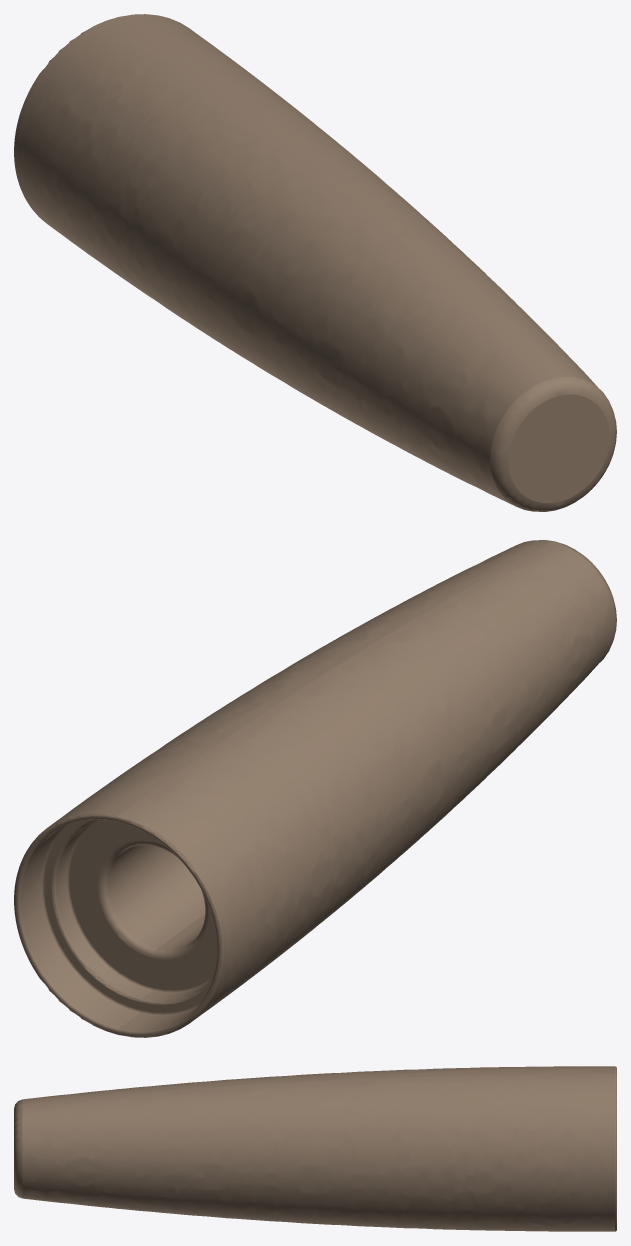
File: 281241_DECOMPRESSION CONE TOOL.fbx
The picture shows the model from 3 angles, top to bottom: view 1: azimuth 30°, elevation 25°; view 2: azimuth 150°, elevation 25°; view 3: azimuth 270°, elevation 25°; orthographic projection. The views are drawn at different scales.
Parts seen in each view (by area): view 1: meshes[0]; view 2: meshes[0]; view 3: meshes[0].
Part boxes in pixels (bbox=[...]): meshes[0]: bbox=[14, 14, 616, 511]; meshes[0]: bbox=[14, 540, 616, 1037]; meshes[0]: bbox=[14, 1066, 616, 1231].
Size of the model in its own units: 17.01 by 17 by 62.
